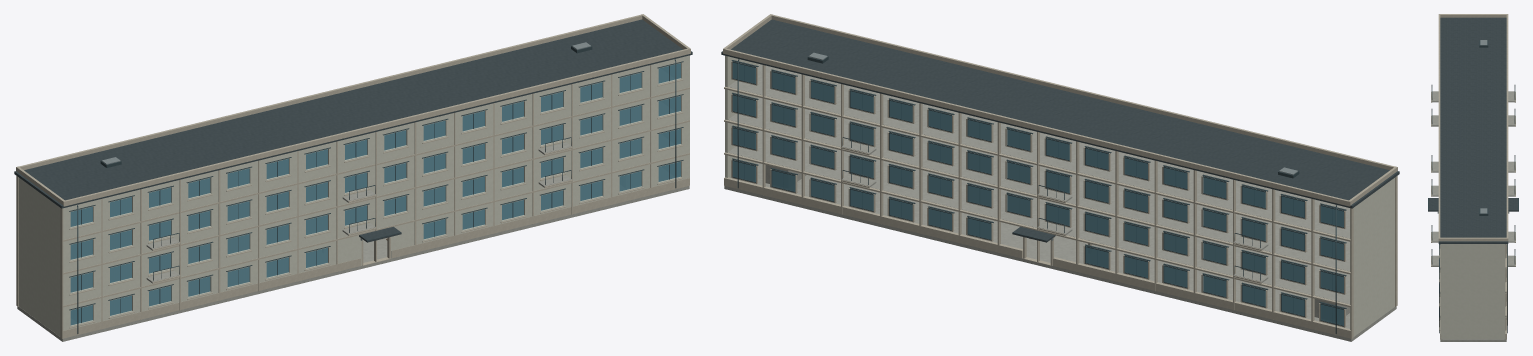
File: apartment_block.glb
3 views of the same model, side by side, from view 1: azimuth 30°, elevation 25°; view 2: azimuth 150°, elevation 25°; view 3: azimuth 270°, elevation 25° (orthographic). The views are drawn at different scales.
Visible parts, largest first — view 1: VIS_Masonry_Wall, VIS_Roof_Slab, VIS_Window_Glass, VIS_Roof_Parapet_Long, VIS_Gable_Wall, VIS_Stone_Vertical_Pilaster, VIS_Ground_Sockle, VIS_Horizontal_Band, VIS_Sill, VIS_Foundation, VIS_Window_Drip_Edge, VIS_Window_Divider (+2 smaller); view 2: VIS_Intermediate_Slab, VIS_Roof_Slab, VIS_Window_Glass, VIS_Stone_Vertical_Pilaster, VIS_Foundation, VIS_Roof_Parapet_Long, VIS_Gable_Wall, VIS_Horizontal_Band, VIS_Ground_Sockle, VIS_Window_Reveal, VIS_Window_Frame, VIS_Window_Drip_Edge (+4 smaller); view 3: VIS_Roof_Slab, VIS_Gable_Wall, VIS_Roof_Parapet_Long, VIS_Balcony_Slab, VIS_Roof_Parapet_Right, VIS_Entrance_Canopy, VIS_Roof_Parapet_Left, VIS_Balcony_Rail, VIS_Foundation, VIS_Masonry_Wall, VIS_Rainwater_Downpipe, VIS_Balcony_Uprights (+6 smaller).
Part boxes in pixels (bbox=[...]): VIS_Masonry_Wall: bbox=[63, 55, 689, 330]; VIS_Roof_Slab: bbox=[14, 19, 692, 208]; VIS_Window_Glass: bbox=[70, 63, 680, 325]; VIS_Roof_Parapet_Long: bbox=[16, 14, 690, 206]; VIS_Gable_Wall: bbox=[19, 178, 60, 336]; VIS_Stone_Vertical_Pilaster: bbox=[16, 65, 651, 338]; VIS_Ground_Sockle: bbox=[63, 178, 689, 338]; VIS_Horizontal_Band: bbox=[63, 87, 689, 307]; VIS_Sill: bbox=[69, 79, 683, 328]; VIS_Foundation: bbox=[17, 186, 689, 341]; VIS_Window_Drip_Edge: bbox=[69, 61, 683, 310]; VIS_Window_Divider: bbox=[81, 66, 669, 322]; VIS_Intermediate_Slab: bbox=[728, 64, 1349, 304]; VIS_Roof_Slab: bbox=[721, 19, 1399, 208]; VIS_Window_Glass: bbox=[733, 62, 1343, 325]; VIS_Stone_Vertical_Pilaster: bbox=[762, 65, 1397, 338]; VIS_Foundation: bbox=[724, 163, 1396, 341]; VIS_Roof_Parapet_Long: bbox=[723, 14, 1397, 206]; VIS_Gable_Wall: bbox=[725, 55, 1394, 336]; VIS_Horizontal_Band: bbox=[724, 86, 1350, 307]; VIS_Ground_Sockle: bbox=[724, 177, 1350, 338]; VIS_Window_Reveal: bbox=[731, 61, 1345, 327]; VIS_Window_Frame: bbox=[732, 61, 1344, 326]; VIS_Window_Drip_Edge: bbox=[731, 60, 1346, 308]; VIS_Roof_Slab: bbox=[1438, 17, 1508, 243]; VIS_Gable_Wall: bbox=[1441, 244, 1505, 339]; VIS_Roof_Parapet_Long: bbox=[1438, 15, 1508, 237]; VIS_Balcony_Slab: bbox=[1431, 91, 1515, 266]; VIS_Roof_Parapet_Right: bbox=[1438, 237, 1508, 241]; VIS_Entrance_Canopy: bbox=[1428, 198, 1518, 211]; VIS_Roof_Parapet_Left: bbox=[1438, 14, 1508, 17]; VIS_Balcony_Rail: bbox=[1431, 85, 1515, 258]; VIS_Foundation: bbox=[1440, 339, 1506, 341]; VIS_Masonry_Wall: bbox=[1440, 244, 1441, 339]; VIS_Rainwater_Downpipe: bbox=[1439, 244, 1507, 333]; VIS_Balcony_Uprights: bbox=[1431, 94, 1515, 264].
Bounding box in the file's own units: 64.4 × 13.76 × 10.94.
8 materials, 8 textured.
